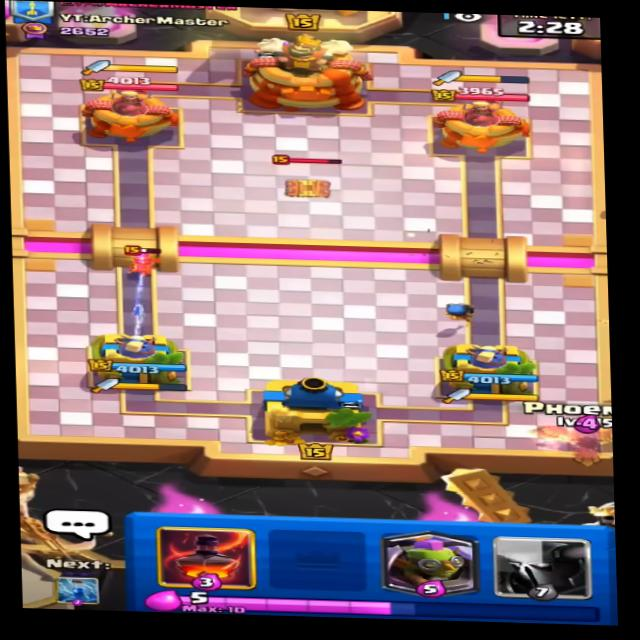Archer: (119, 245, 169, 274)
Teslahidden: (262, 147, 353, 201)
